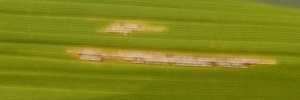RiceBacterialBlight: (69, 16, 282, 78)
